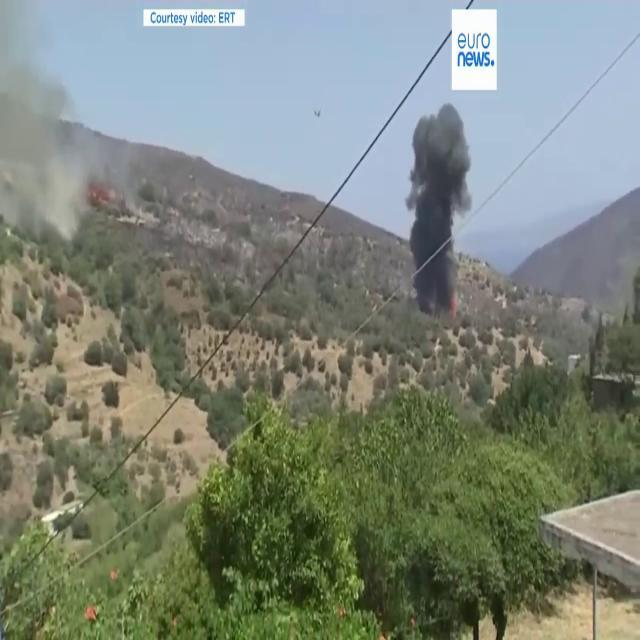Smoke: (0, 0, 102, 246), (404, 93, 474, 303)
